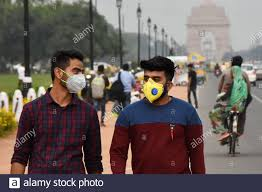with_mask: (54, 55, 86, 95), (143, 64, 169, 104)
